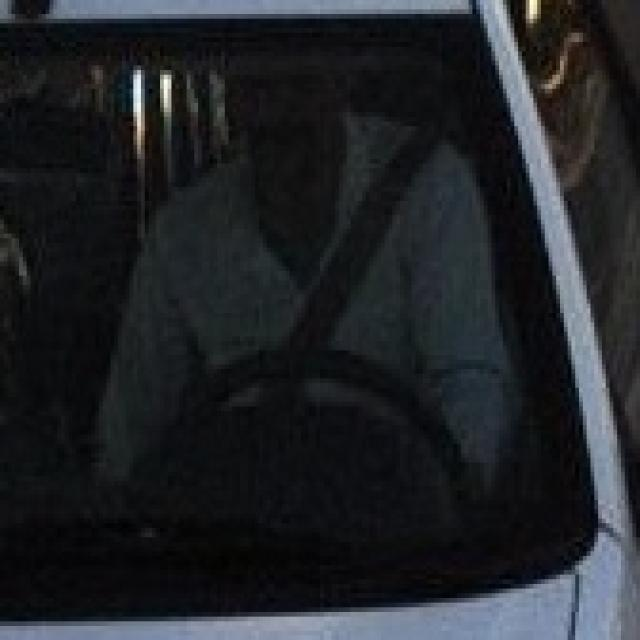windshield: (22, 5, 597, 618)
